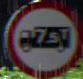Heavy Vehicles: (5, 1, 80, 76)
